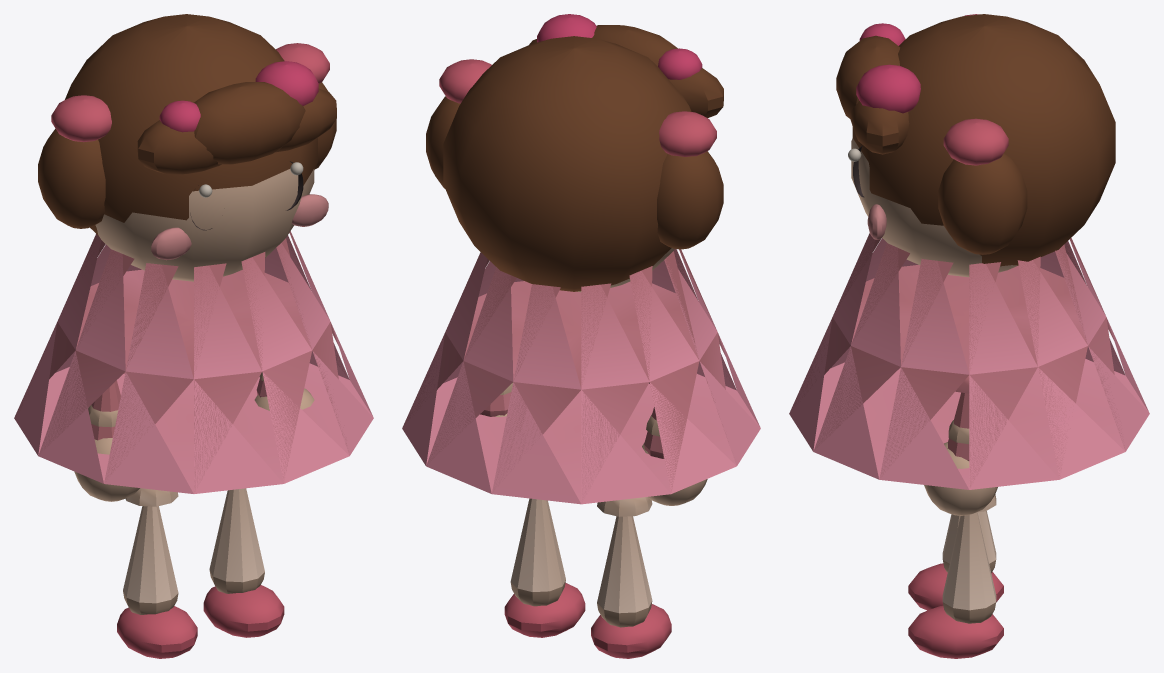
File: girl-rest.glb
3 renders of one model, left to right at view 1: azimuth 30°, elevation 25°; view 2: azimuth 150°, elevation 25°; view 3: azimuth 270°, elevation 25°, orthographic.
Parts seen in each view (by area): view 1: player_girl:rest; view 2: player_girl:rest; view 3: player_girl:rest.
Boxes of the visible parts, x1,y1,x2,y2 form: player_girl:rest: [14, 14, 373, 658]; player_girl:rest: [402, 14, 760, 658]; player_girl:rest: [789, 14, 1149, 658].
Bounding box in the file's own units: 0.54 × 1 × 0.54.
